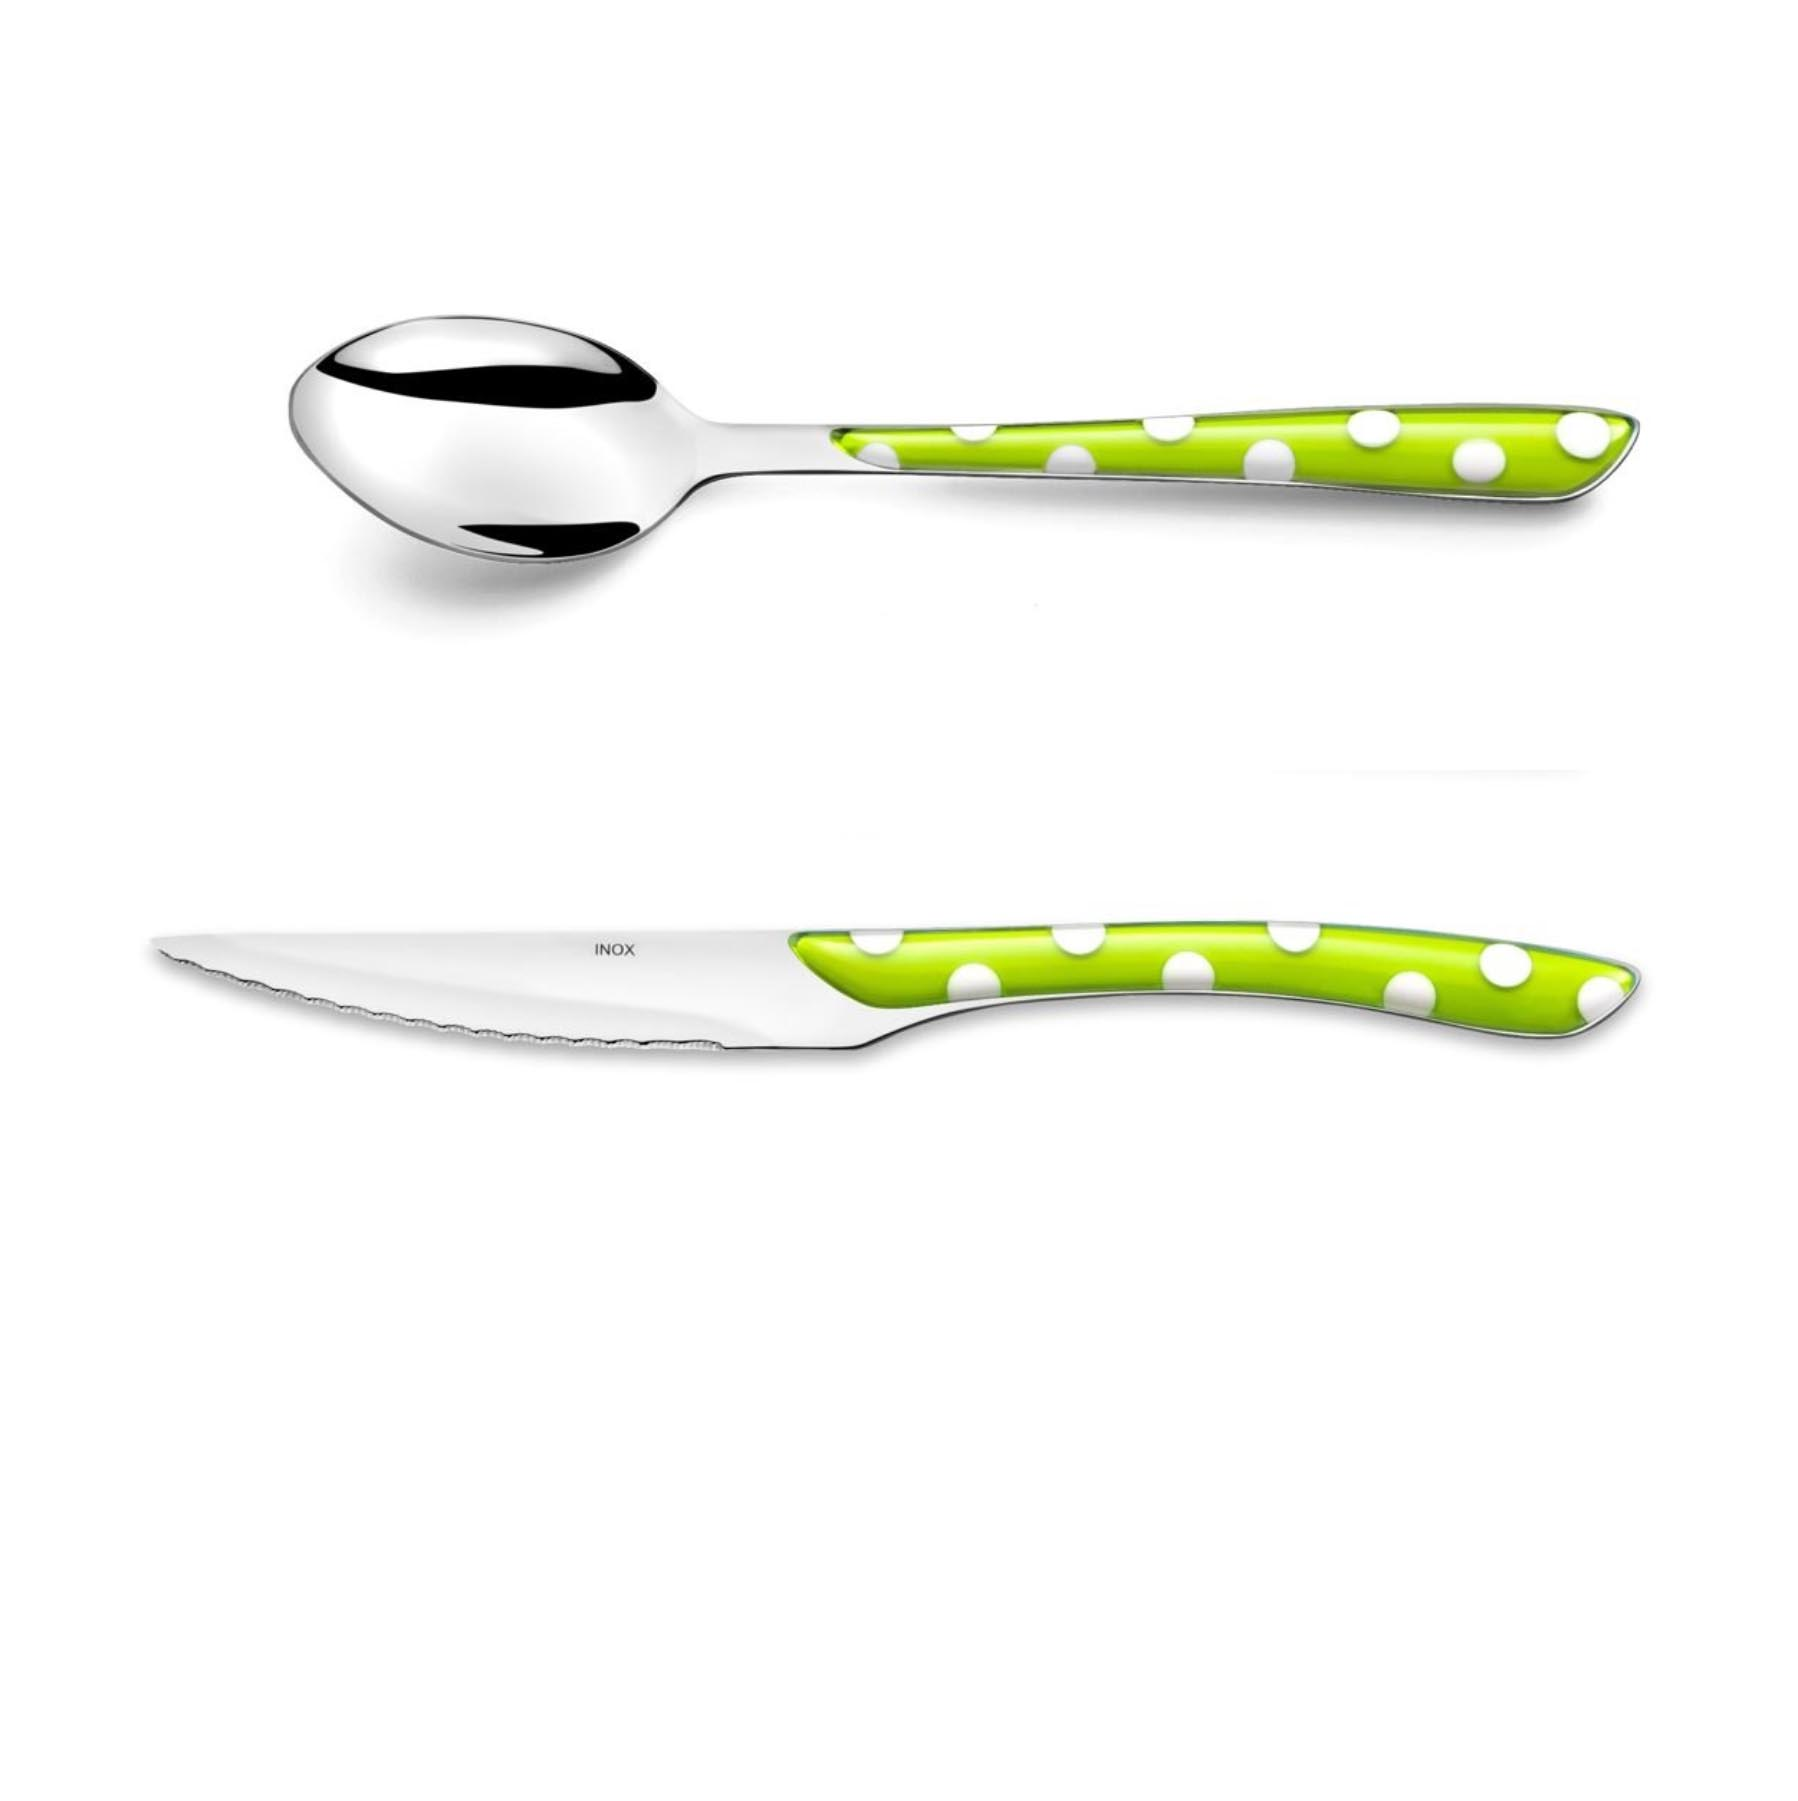Lyzka: (247, 285, 739, 584)
Noz: (140, 909, 953, 1085)
